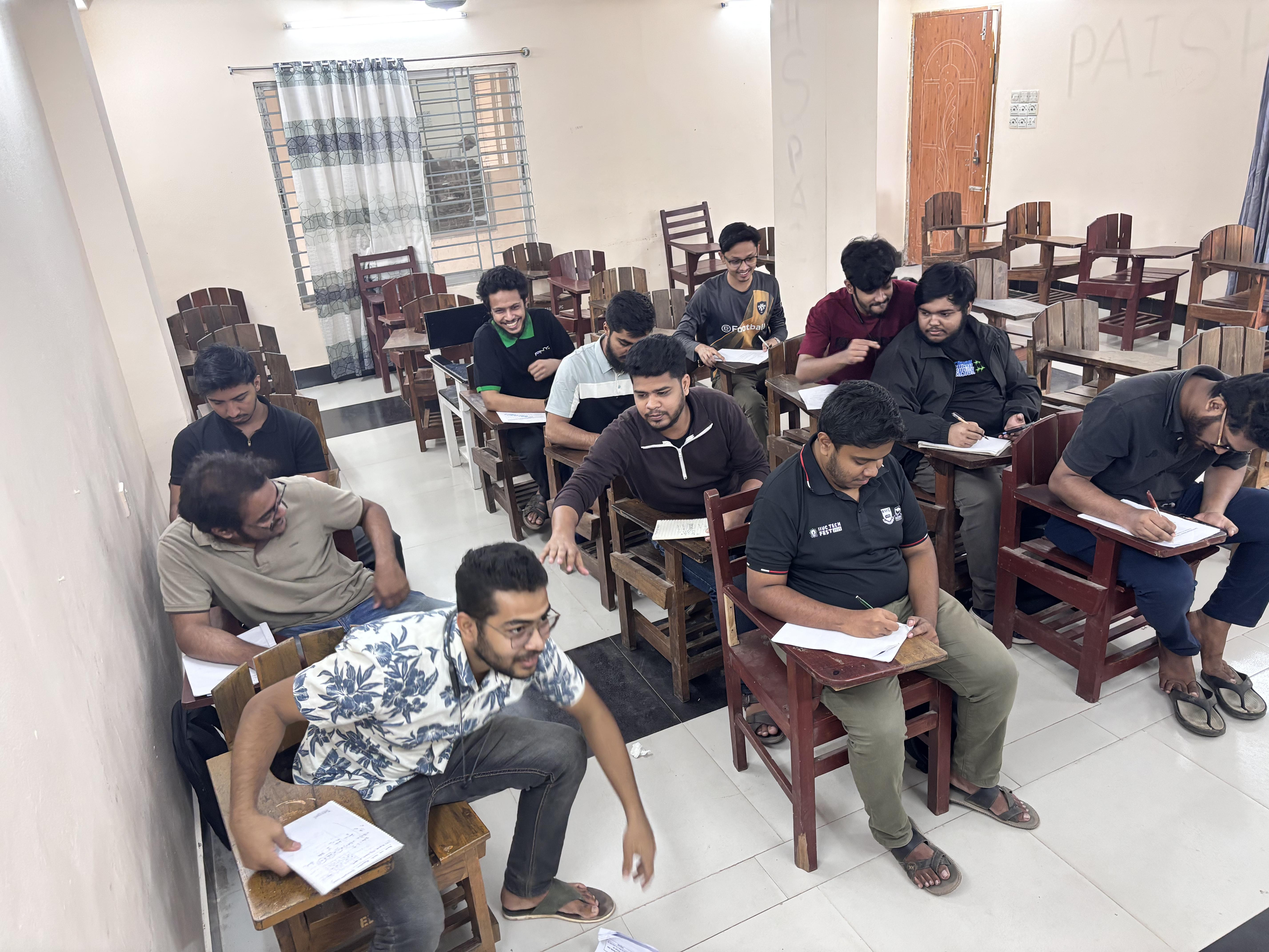copying: (541, 344, 763, 602), (824, 226, 1035, 472)
no_cheating: (739, 387, 978, 780), (1032, 335, 1269, 673), (535, 294, 665, 452), (169, 337, 329, 465)
side_talking: (139, 451, 412, 683), (452, 254, 577, 446)
suspicious_moving: (214, 579, 655, 933), (666, 216, 799, 379)
